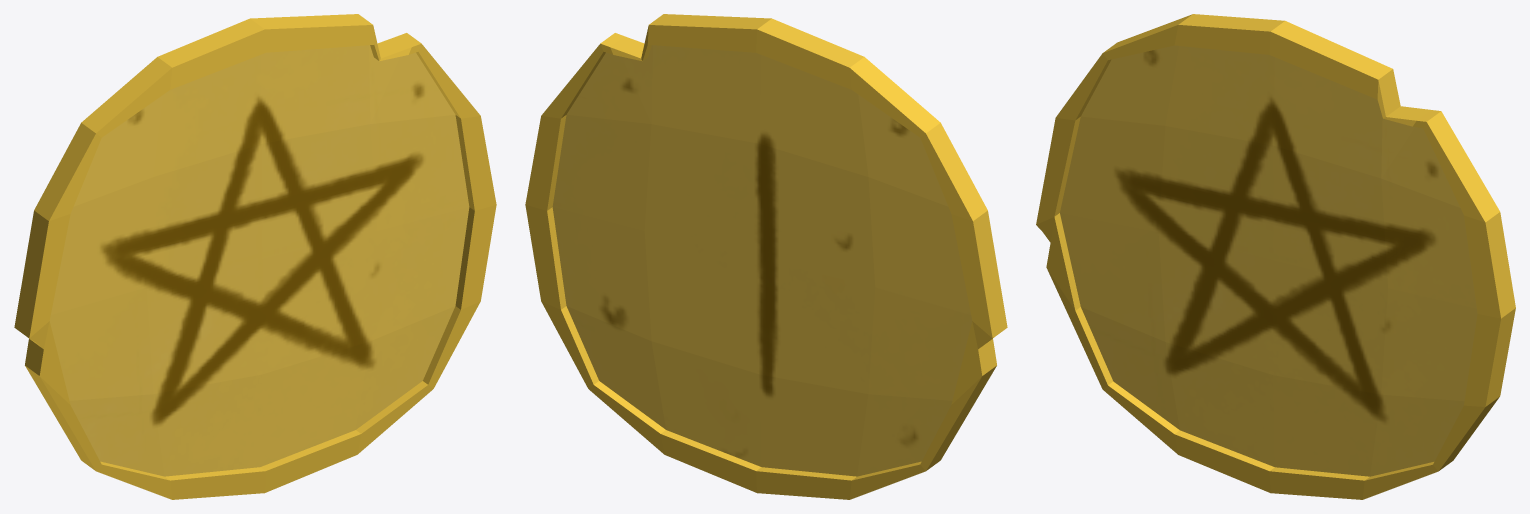
File: Moeda.fbx
3 views of the same model, side by side, from view 1: azimuth 30°, elevation 25°; view 2: azimuth 150°, elevation 25°; view 3: azimuth 330°, elevation 25° (orthographic).
Visible parts, largest first — view 1: Coin; view 2: Coin; view 3: Coin.
Boxes of the visible parts, x1,y1,x2,y2 form: Coin: [14, 14, 496, 499]; Coin: [525, 14, 1007, 499]; Coin: [1036, 14, 1515, 499].
Size of the model in its own units: 10.02 by 9.5 by 0.6233.
